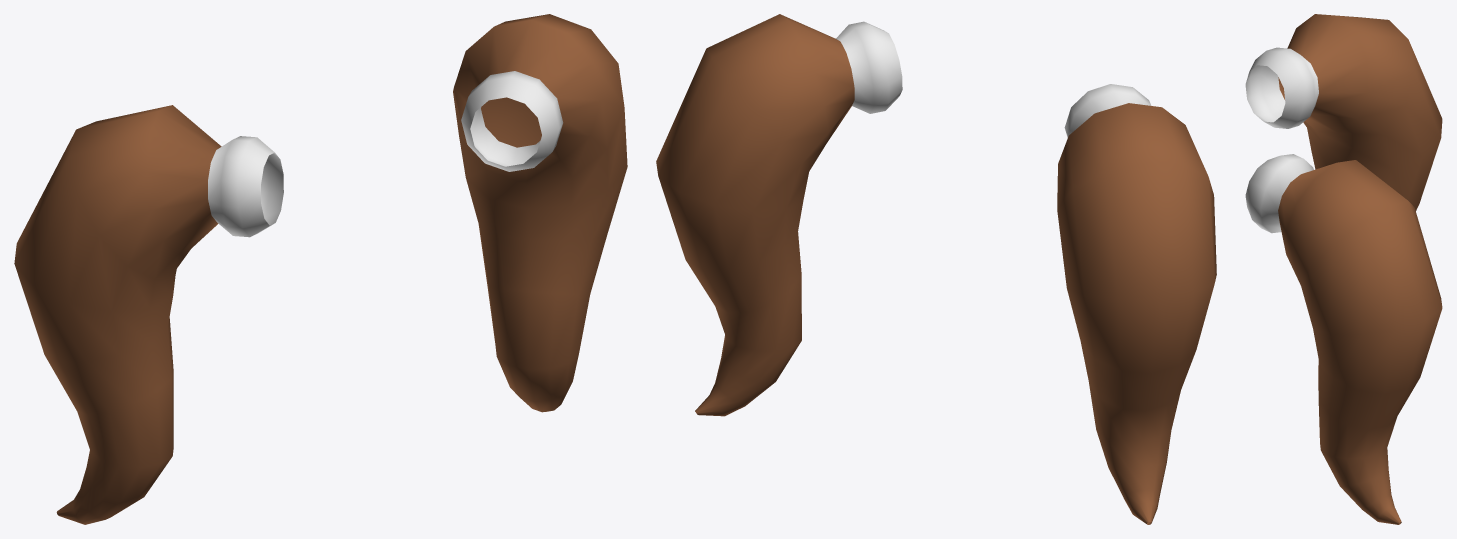
Rendered from hairPigtail.fbx.
3 views of the same model, side by side, from view 1: azimuth 30°, elevation 25°; view 2: azimuth 150°, elevation 25°; view 3: azimuth 270°, elevation 25° (orthographic). The views are drawn at different scales.
Parts seen in each view (by area): view 1: hairPigTail; view 2: hairPigTail; view 3: hairPigTail.
Part boxes in pixels (x1,y1,x2,y2): hairPigTail: (14, 14, 627, 524); hairPigTail: (656, 14, 1216, 524); hairPigTail: (1245, 14, 1442, 524).
Bounding box in the file's own units: 137 × 93.18 × 48.73.
